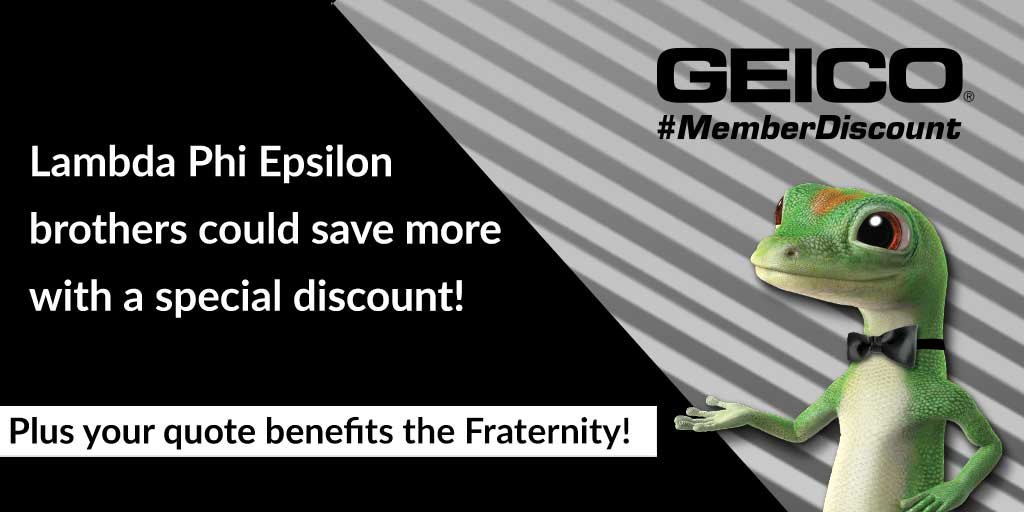geico: (651, 36, 976, 108)
